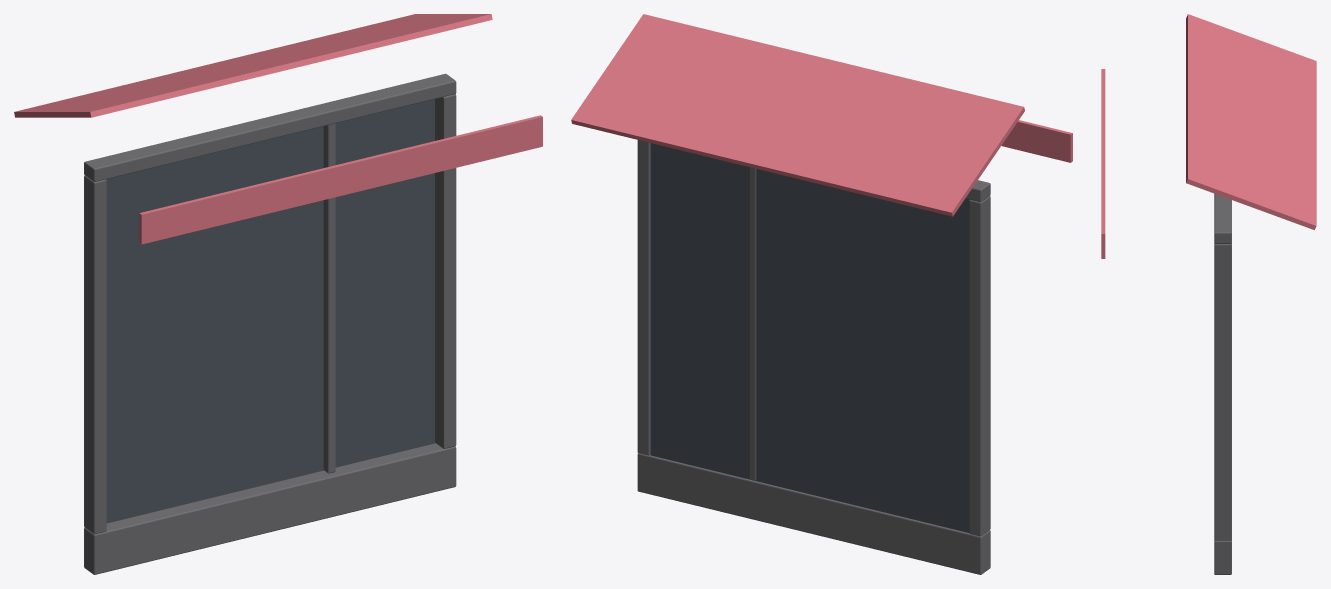
Rendered from shop.glb.
The picture shows the model from 3 angles, left to right: view 1: azimuth 30°, elevation 25°; view 2: azimuth 150°, elevation 25°; view 3: azimuth 270°, elevation 25°; orthographic projection. The views are drawn at different scales.
Visible parts, largest first — view 1: top; view 2: top; view 3: top.
Part boxes in pixels (x1,y1,x2,y2): top: (14,14,542,574); top: (571,14,1072,574); top: (1101,14,1316,574).
Size of the model in its own units: 3.1 by 3.54 by 1.71.
